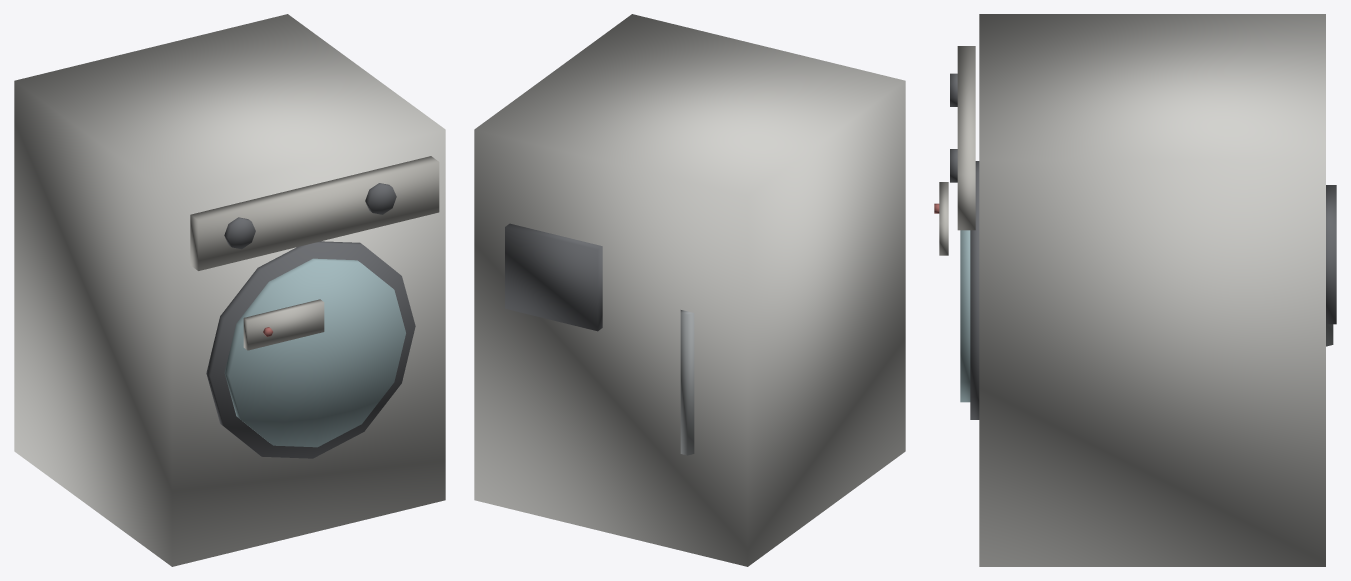
Rendered from domestic_dryer__service.glb.
3 views of the same model, side by side, from view 1: azimuth 30°, elevation 25°; view 2: azimuth 150°, elevation 25°; view 3: azimuth 270°, elevation 25° (orthographic). The views are drawn at different scales.
Visible parts, largest first — view 1: world; view 2: world; view 3: world.
Part boxes in pixels (x1=…): world: x1=14, y1=14, x2=445, y2=566; world: x1=474, y1=14, x2=905, y2=566; world: x1=934, y1=14, x2=1336, y2=566.
Bounding box in the file's own units: 0.68 × 0.88 × 0.7896.
